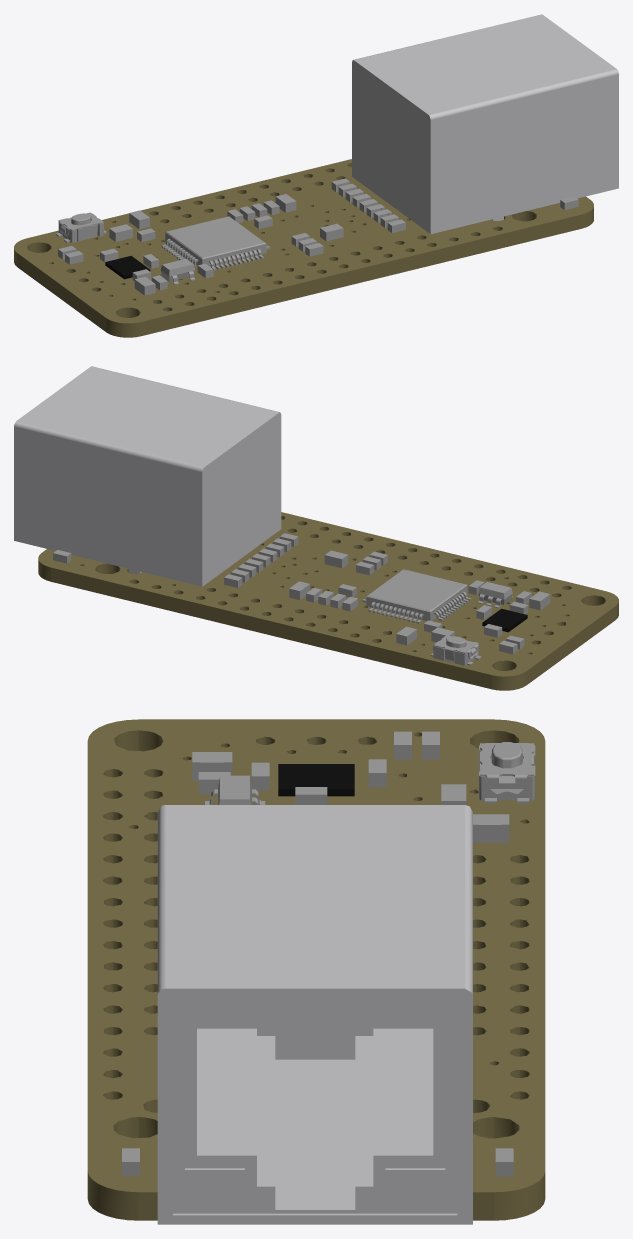
File: ada-3201.glb
3 renders of one model, top to bottom at view 1: azimuth 30°, elevation 25°; view 2: azimuth 150°, elevation 25°; view 3: azimuth 270°, elevation 25°, orthographic. The views are drawn at different scales.
Parts seen in each view (by area): view 1: 0.5833333333333334_0.5833333333333334_0.5833333333333334_0.8, 0.16666666666666666_0.16666666666666666_0.08333333333333333_, 0.3333333333333333_0.3333333333333333_0.3333333333333333_0, 0_0_0_0; view 2: 0.5833333333333334_0.5833333333333334_0.5833333333333334_0.8, 0.16666666666666666_0.16666666666666666_0.08333333333333333_, 0.3333333333333333_0.3333333333333333_0.3333333333333333_0, 0_0_0_0; view 3: 0.5833333333333334_0.5833333333333334_0.5833333333333334_0.8, 0.16666666666666666_0.16666666666666666_0.08333333333333333_, 0.3333333333333333_0.3333333333333333_0.3333333333333333_0, 0_0_0_0.
Boxes of the visible parts, x1,y1,x2,y2 form: 0.5833333333333334_0.5833333333333334_0.5833333333333334_0.8: [352, 14, 618, 234]; 0.16666666666666666_0.16666666666666666_0.08333333333333333_: [14, 159, 593, 337]; 0.3333333333333333_0.3333333333333333_0.3333333333333333_0: [56, 178, 578, 295]; 0_0_0_0: [105, 255, 150, 279]; 0.5833333333333334_0.5833333333333334_0.5833333333333334_0.8: [14, 366, 281, 586]; 0.16666666666666666_0.16666666666666666_0.08333333333333333_: [38, 512, 618, 690]; 0.3333333333333333_0.3333333333333333_0.3333333333333333_0: [53, 533, 550, 665]; 0_0_0_0: [482, 608, 527, 632]; 0.5833333333333334_0.5833333333333334_0.5833333333333334_0.8: [157, 805, 472, 1224]; 0.16666666666666666_0.16666666666666666_0.08333333333333333_: [87, 719, 545, 1220]; 0.3333333333333333_0.3333333333333333_0.3333333333333333_0: [122, 731, 535, 1176]; 0_0_0_0: [278, 764, 354, 796].
Size of the model in its own units: 5.97 by 1.63 by 2.29.
